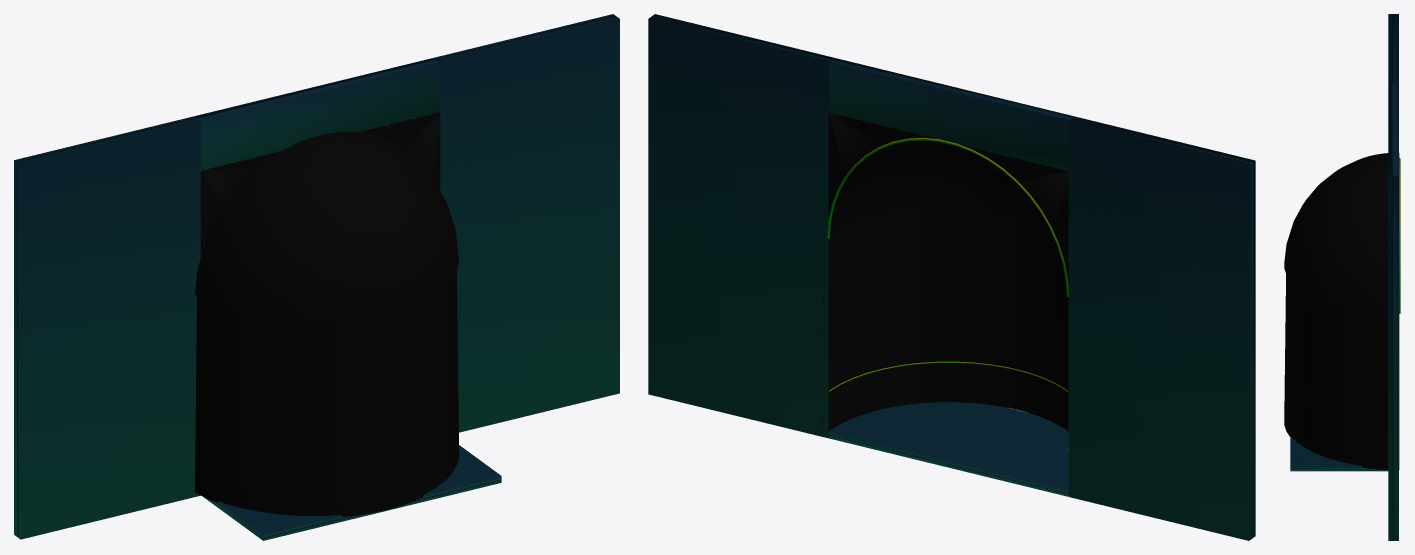
File: sanctum_apse.glb
3 views of the same model, side by side, from view 1: azimuth 30°, elevation 25°; view 2: azimuth 150°, elevation 25°; view 3: azimuth 270°, elevation 25° (orthographic). The views are drawn at different scales.
Parts seen in each view (by area): view 1: sanctum_apse; view 2: sanctum_apse; view 3: sanctum_apse.
Part boxes in pixels (<box>): sanctum_apse: <box>14,14,619,540</box>; sanctum_apse: <box>648,14,1255,540</box>; sanctum_apse: <box>1284,14,1400,540</box>.
Size of what is drawn, in the model's own units: 25.08 by 14.98 by 5.34.
